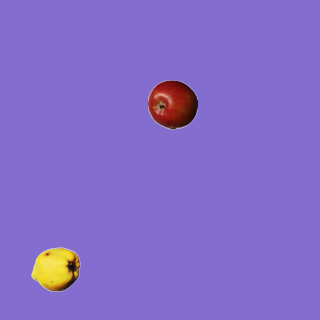Apple Braeburn: (147, 79, 197, 129)
Quince: (30, 244, 80, 294)
